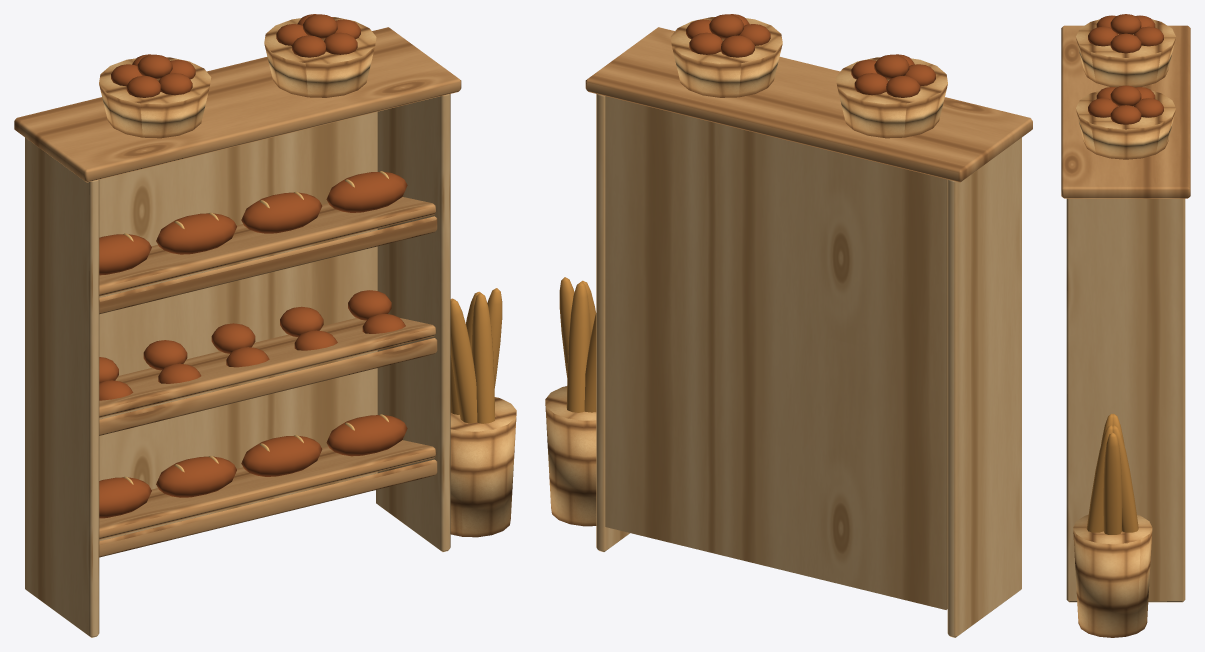
File: bread_rack.glb
The picture shows the model from 3 angles, left to right: view 1: azimuth 30°, elevation 25°; view 2: azimuth 150°, elevation 25°; view 3: azimuth 270°, elevation 25°; orthographic projection. The views are drawn at different scales.
Parts seen in each view (by area): view 1: model; view 2: model; view 3: model.
Boxes of the visible parts, box(x1,y1,x2,y2) form: model: box(14, 14, 516, 637); model: box(545, 14, 1032, 637); model: box(1061, 14, 1190, 637).
Bounding box in the file's own units: 1.76 × 1.98 × 0.49.
6 materials, 3 textured.
